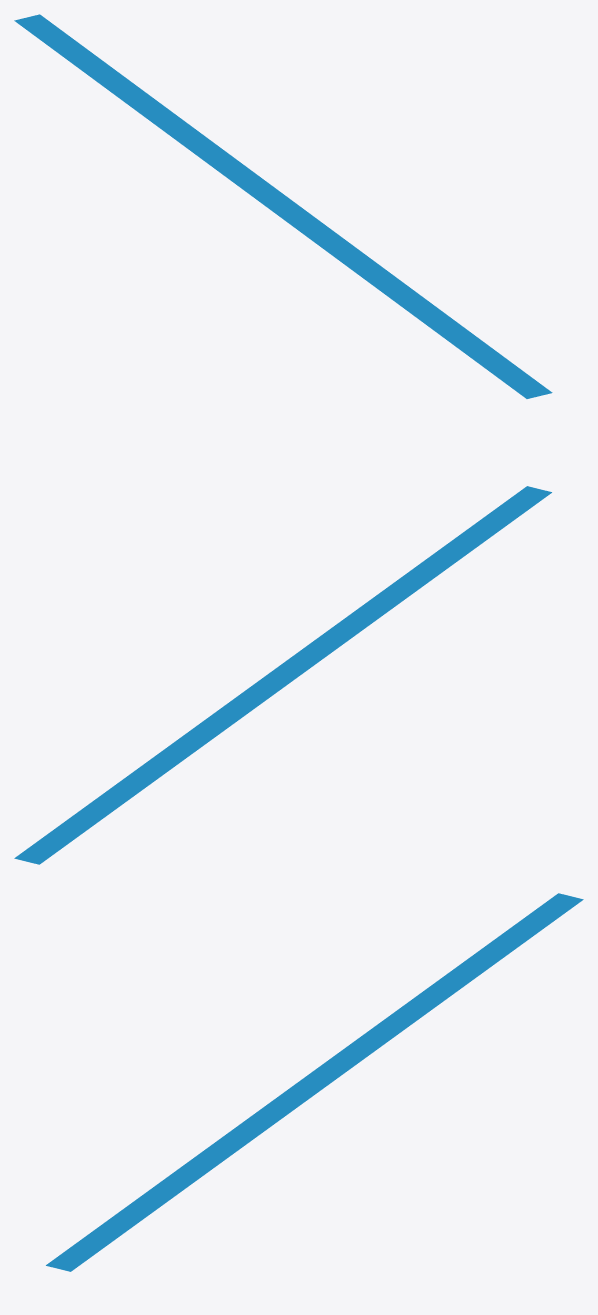
File: guide.glb
3 renders of one model, top to bottom at view 1: azimuth 30°, elevation 25°; view 2: azimuth 150°, elevation 25°; view 3: azimuth 330°, elevation 25°, orthographic.
Visible parts, largest first — view 1: static; view 2: static; view 3: static.
Part boxes in pixels (bbox=[...]): static: bbox=[14, 14, 552, 398]; static: bbox=[14, 486, 551, 864]; static: bbox=[46, 893, 583, 1271].
Size of the model in its own units: 1 by 0 by 12.
